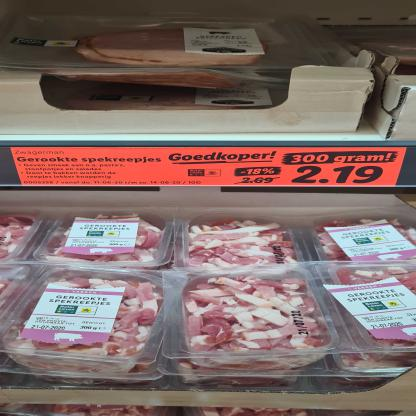prtg: (11, 148, 407, 187)
